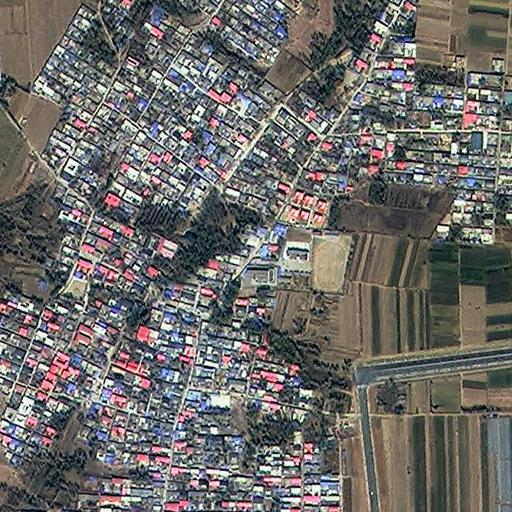school: (238, 223, 358, 296)
